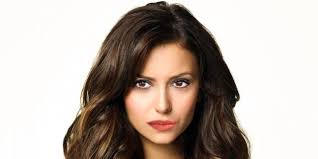n.sharp: (155, 81, 172, 115)
